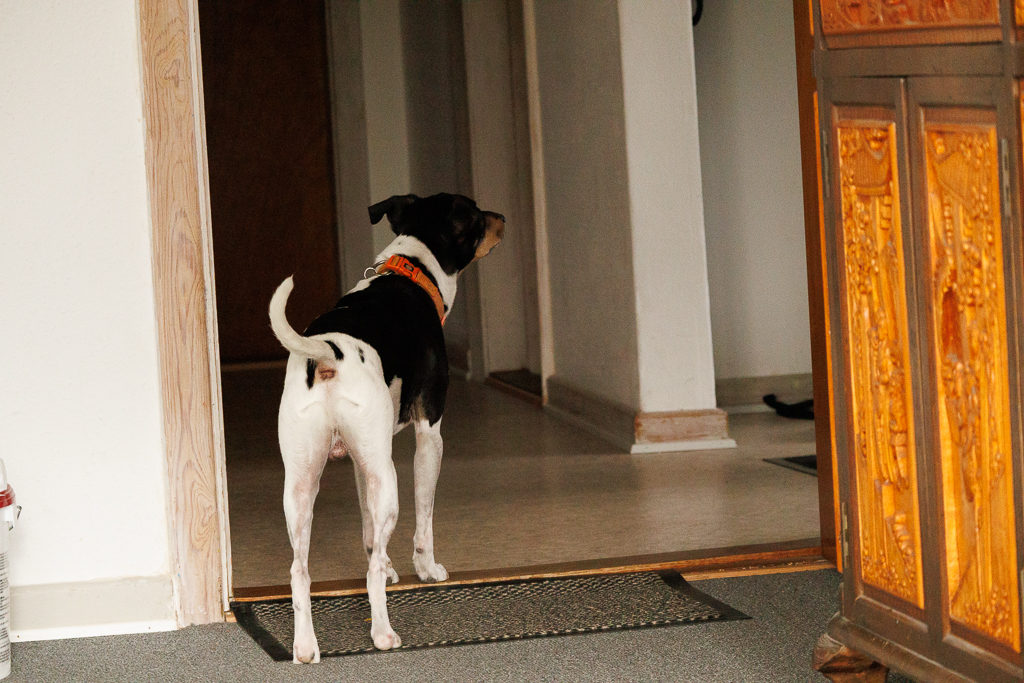Dog: (259, 175, 517, 674)
